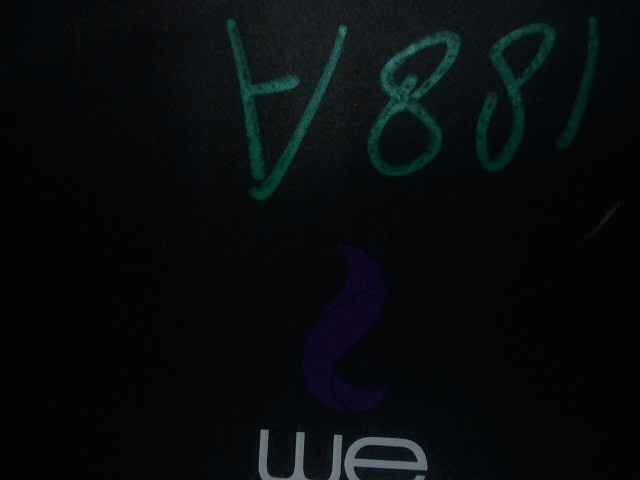AT_We: (210, 230, 432, 478)
